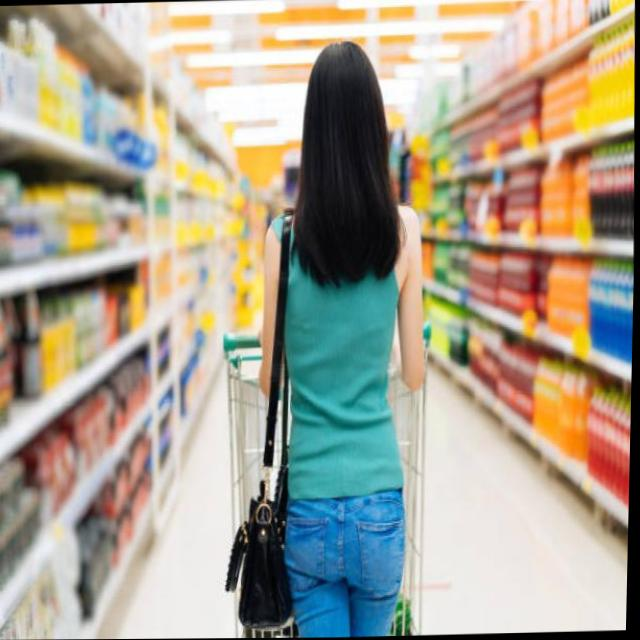no helmet: (267, 23, 415, 304)
